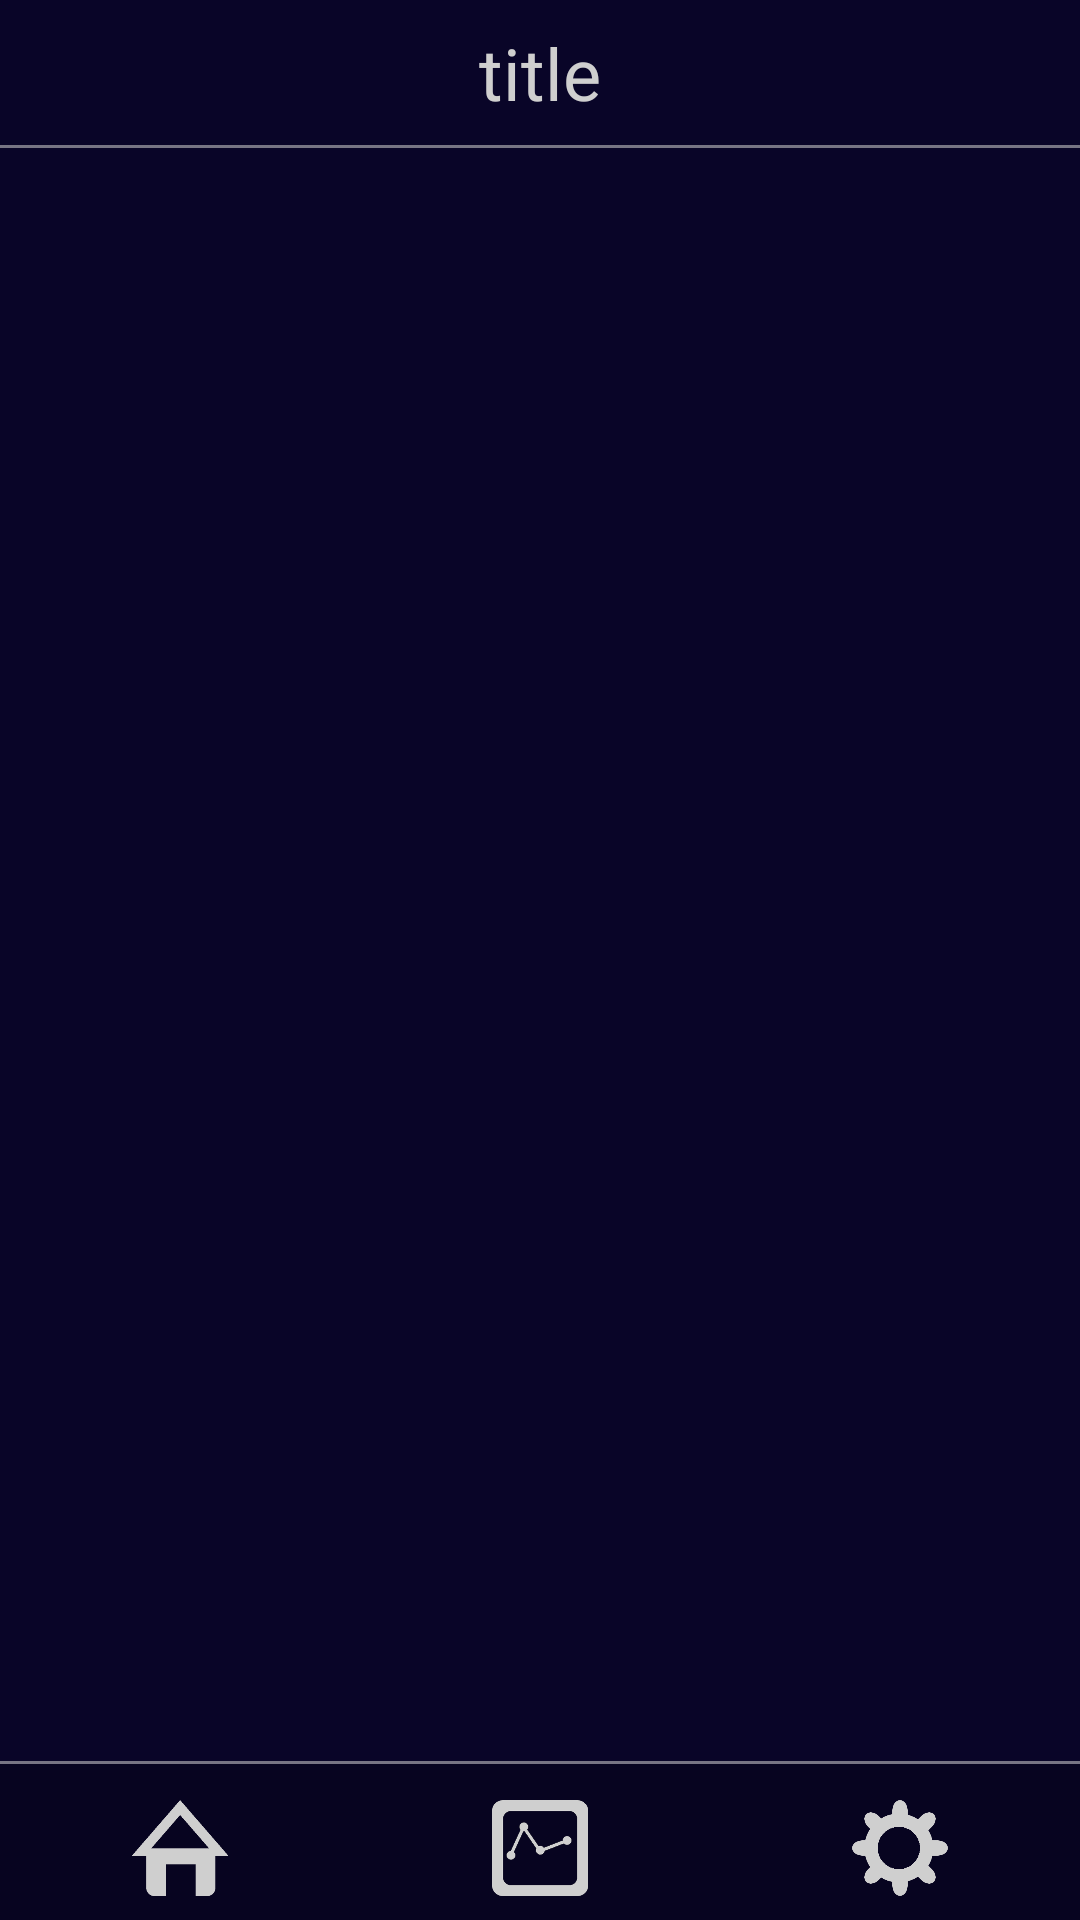

Icons on this 1080 x 1920 Android screen, each with its box as bbox=(x1, y1, x2, y2):
home: bbox=(132, 1800, 228, 1896)
setting: bbox=(852, 1800, 948, 1896)
statistics: bbox=(492, 1800, 588, 1896)
